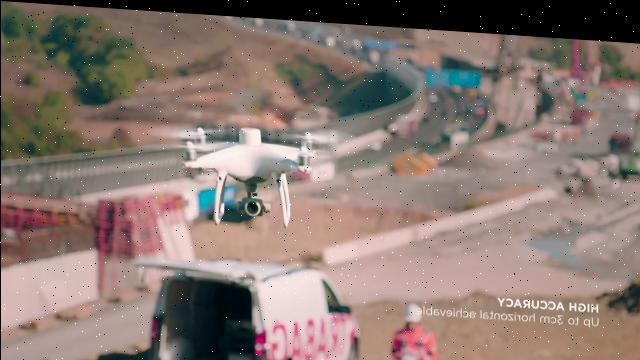drone: (148, 115, 346, 227)
